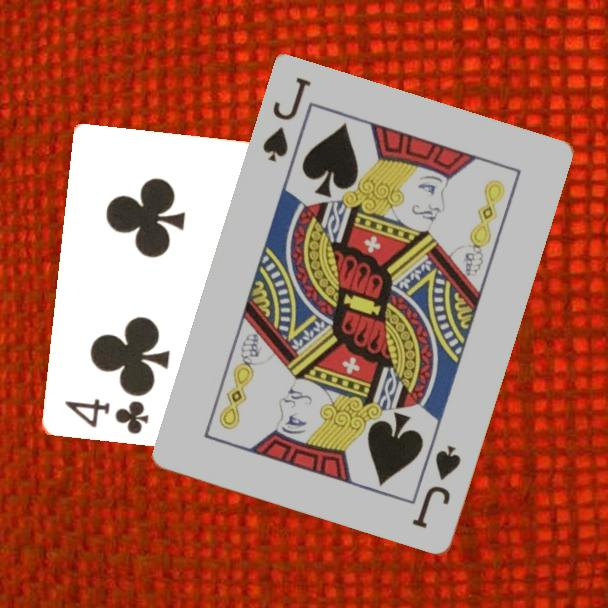c04: (60, 395, 152, 438)
s11: (409, 442, 465, 532), (259, 74, 314, 165)
